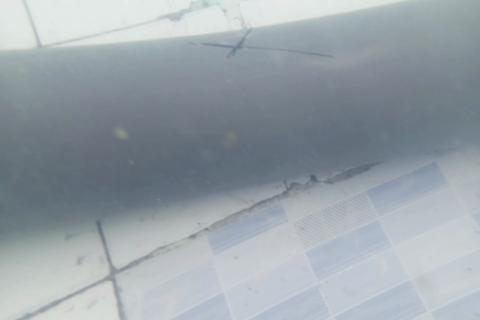keretakan: (188, 29, 335, 60)
